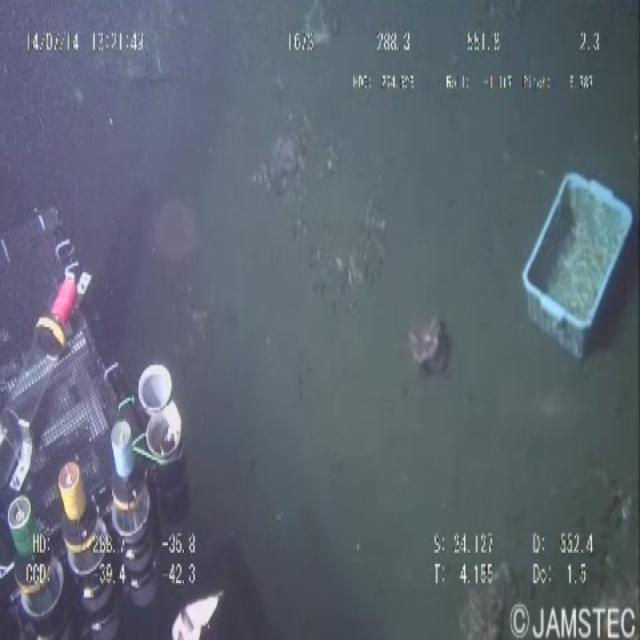Cutlery: (511, 151, 640, 375)
Litter: (403, 302, 455, 390)
